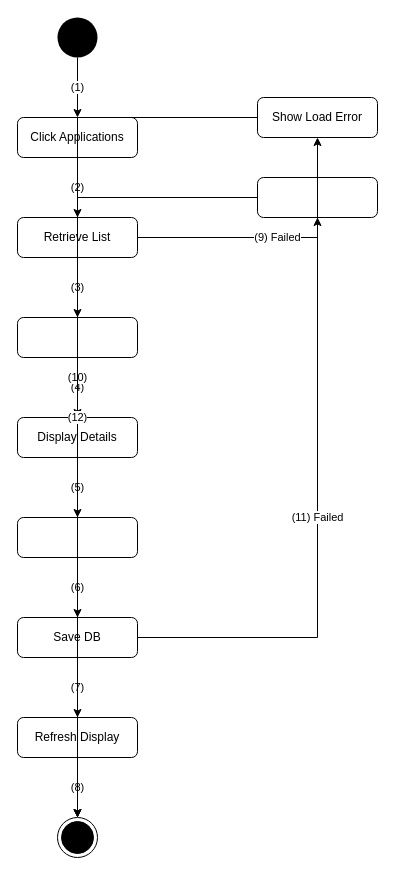
Image size: 395x875. Some labels were removed from this diagram. The shapes that lost their labels are listed below. From the top down, each one's box as (x1, y1, x2, y2) in pixels, then its label:
(256, 176, 378, 218): Show Save Error
(16, 316, 138, 358): Select Student
(16, 516, 138, 558): Update Status
